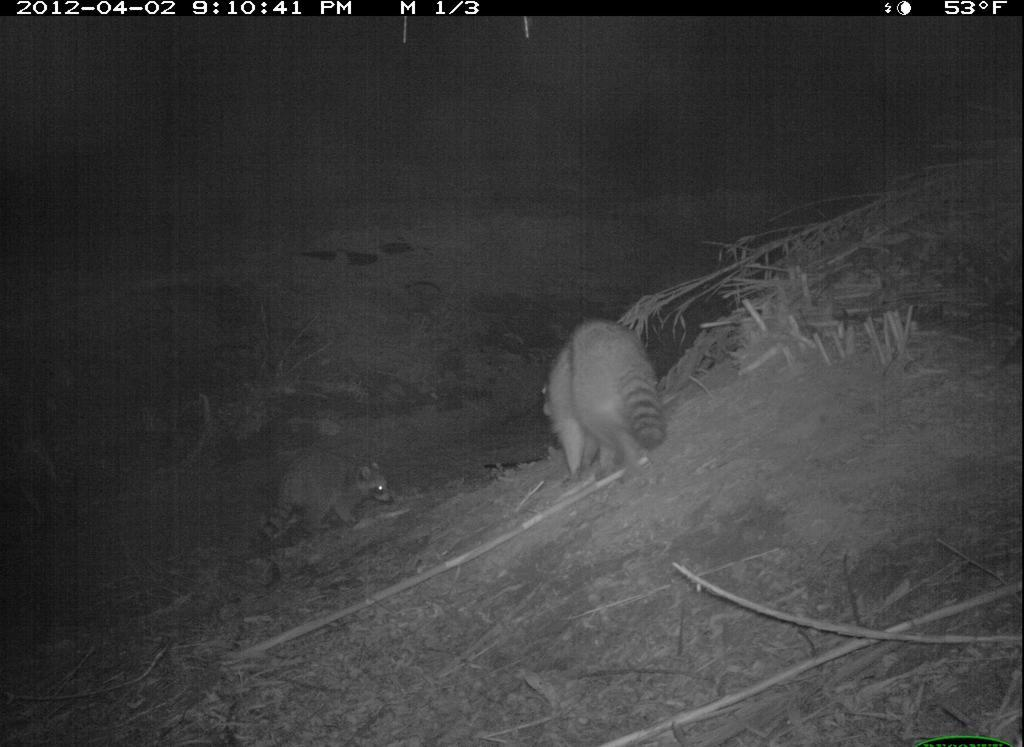raccoon: (527, 319, 673, 487), (257, 437, 401, 562)
